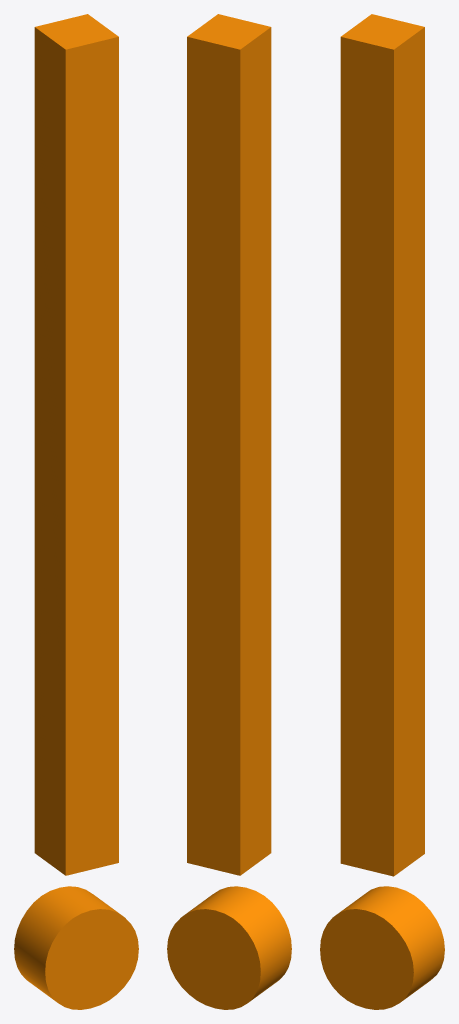
Rendered from Exclamation.FBX.
The picture shows the model from 3 angles, left to right: view 1: azimuth 30°, elevation 25°; view 2: azimuth 150°, elevation 25°; view 3: azimuth 330°, elevation 25°; orthographic projection.
Visible parts, largest first — view 1: Exclamation; view 2: Exclamation; view 3: Exclamation.
Part boxes in pixels (bbox=[...]): Exclamation: bbox=[14, 14, 138, 1009]; Exclamation: bbox=[167, 14, 291, 1009]; Exclamation: bbox=[320, 14, 444, 1009].
Size of the model in its own units: 8.71 by 85.67 by 5.
